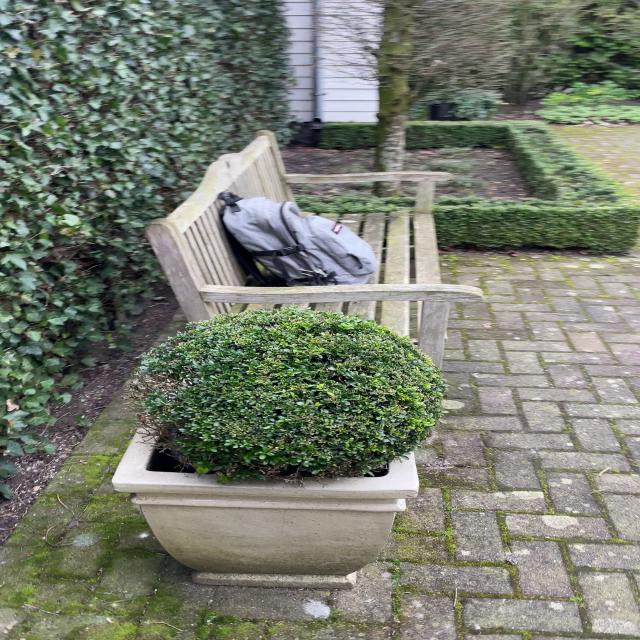backpack: (208, 190, 382, 288)
